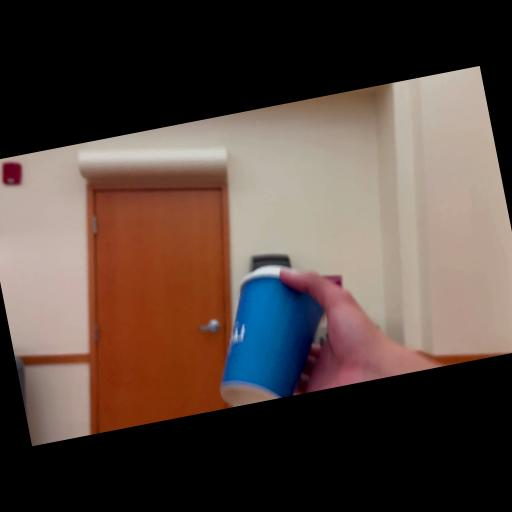lp_paper_cup: (196, 252, 343, 410)
